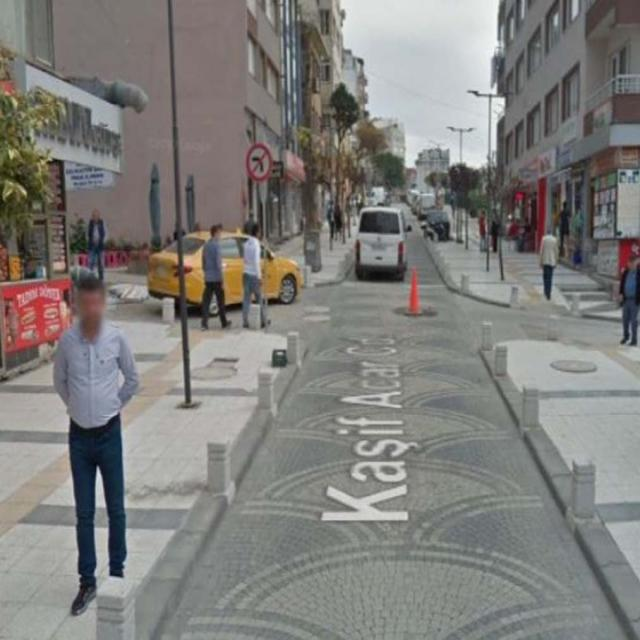soladonulmez: (245, 144, 272, 182)
